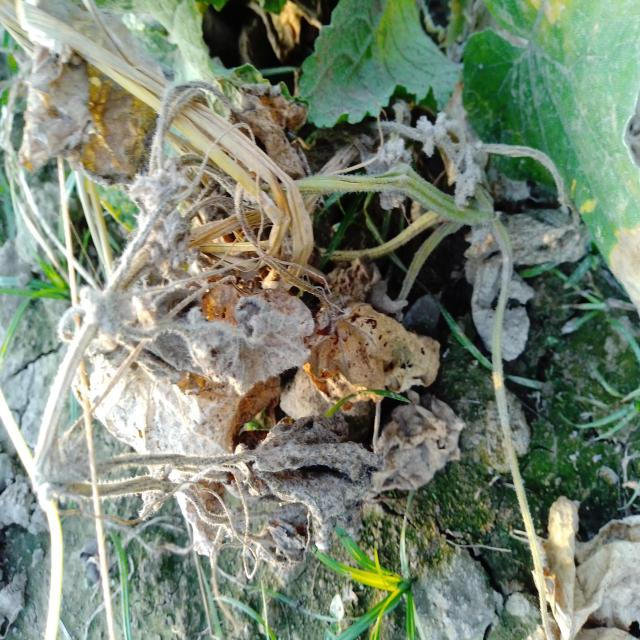cucumber_bacterial: (74, 256, 275, 518), (464, 133, 598, 358), (0, 0, 132, 219), (231, 416, 388, 571), (280, 294, 450, 430), (502, 488, 640, 640)
